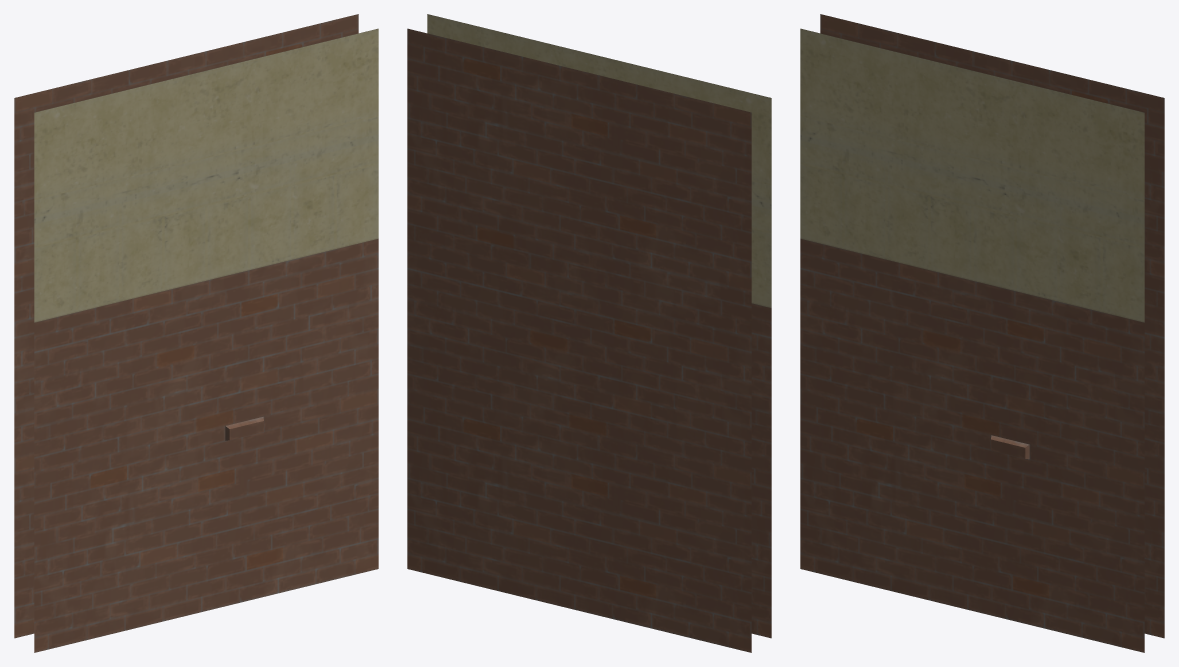
The model's file is brick_halftrim.glb.
The picture shows the model from 3 angles, left to right: view 1: azimuth 30°, elevation 25°; view 2: azimuth 150°, elevation 25°; view 3: azimuth 330°, elevation 25°; orthographic projection.
Parts seen in each view (by area): view 1: Brick_HalfTrim; view 2: Brick_HalfTrim; view 3: Brick_HalfTrim.
Part boxes in pixels (x1,y1,x2,y2): Brick_HalfTrim: (14,14,378,652); Brick_HalfTrim: (407,14,771,652); Brick_HalfTrim: (800,14,1164,652).
Size of the model in its own units: 2 by 3 by 0.2247.
Materials: 3 (3 with a texture image).
